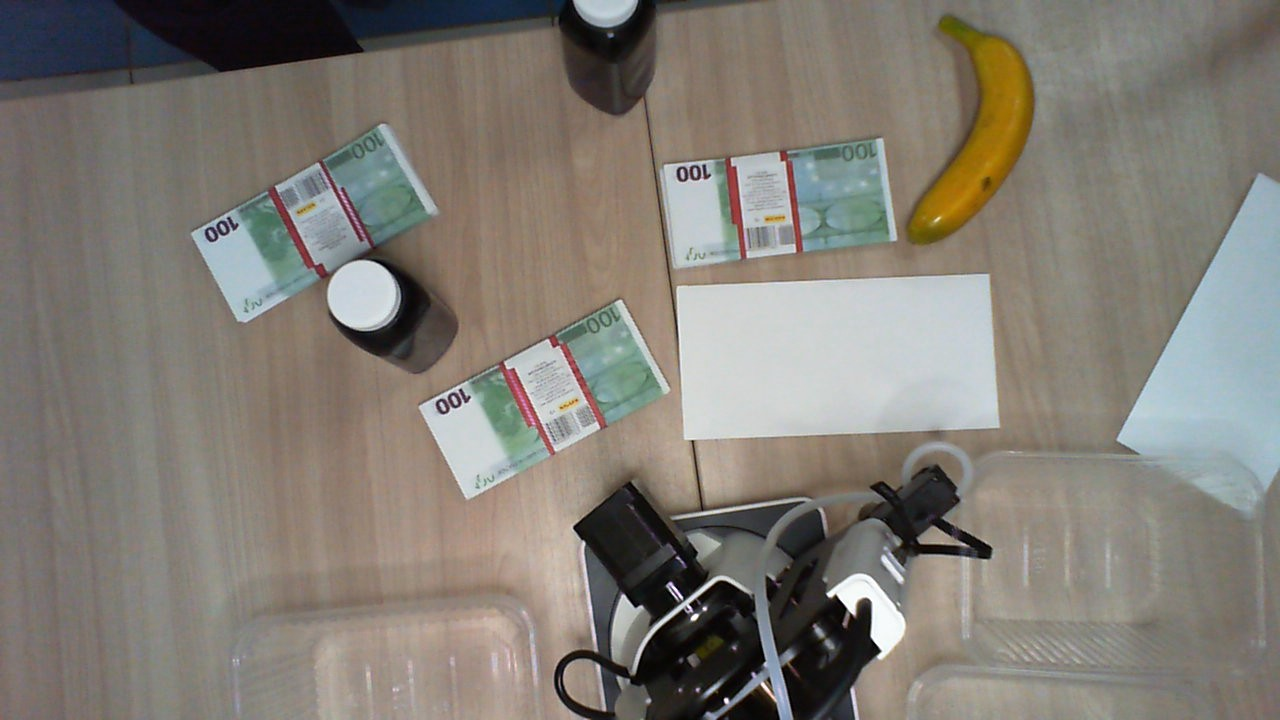banana: (905, 15, 1033, 249)
bottle: (327, 255, 418, 351), (559, 1, 658, 57)
convert: (1118, 175, 1280, 518), (677, 274, 1000, 440)
money: (417, 297, 671, 500), (191, 122, 439, 323), (659, 136, 896, 272)
